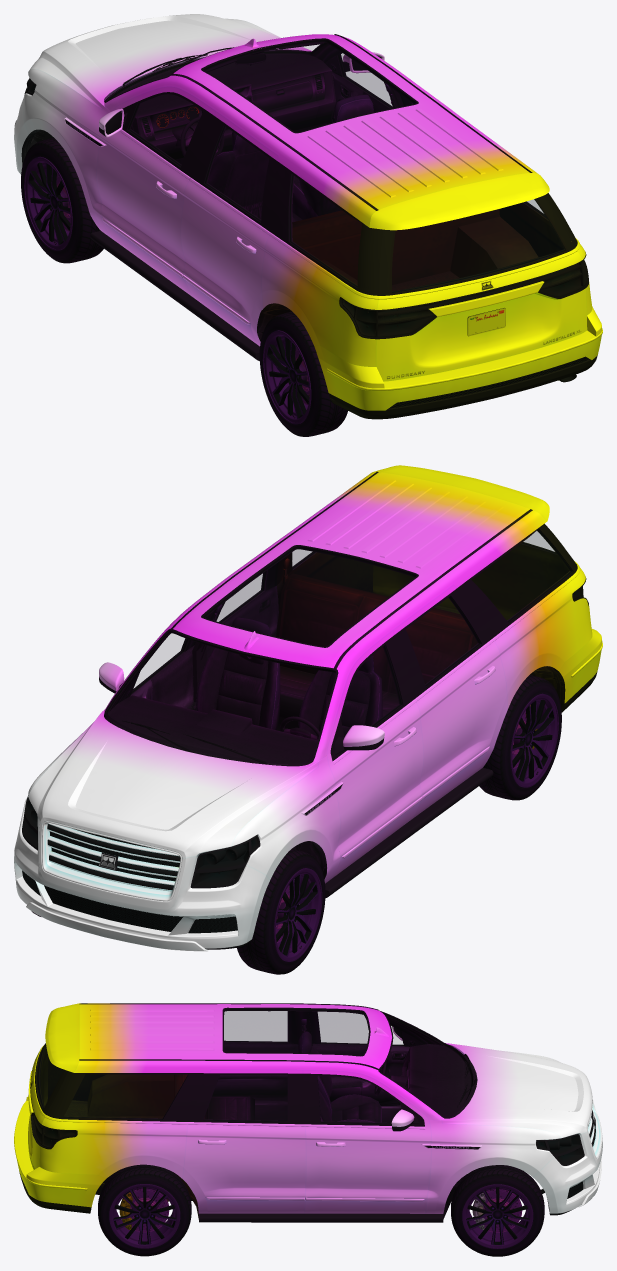
File: landstalker2.glb
3 views of the same model, one above another, from view 1: azimuth 30°, elevation 25°; view 2: azimuth 150°, elevation 25°; view 3: azimuth 270°, elevation 25° (orthographic). The views are drawn at different scales.
Parts seen in each view (by area): view 1: bodyshell, chassis, boot, door_dside_r, door_dside_f, bumper_r, bonnet, misc_a, windscreen_r, wheel_lr, wheel_lf, wing_lf (+7 smaller); view 2: bodyshell, chassis, bonnet, bumper_f, door_dside_r, door_dside_f, misc_a, boot, wheel_lf, wing_lf, wheel_lr, misc_f (+9 smaller); view 3: bodyshell, chassis, door_pside_r, door_pside_f, bonnet, wheel_rr, wheel_rf, wing_rf, misc_a, window_rm, boot, bumper_r (+8 smaller).
Part boxes in pixels (box(x1,y1,x2,y2)): bodyshell: box(24, 34, 592, 366); chassis: box(33, 42, 571, 341); boot: box(369, 173, 587, 381); door_dside_r: box(180, 111, 278, 346); door_dside_f: box(96, 86, 215, 298); bumper_r: box(314, 307, 602, 419); bonnet: box(30, 14, 311, 109); misc_a: box(205, 41, 414, 131); windscreen_r: box(392, 199, 564, 291); wheel_lr: box(259, 311, 347, 436); wheel_lf: box(21, 137, 103, 263); wing_lf: box(22, 69, 112, 238); bodyshell: box(22, 471, 592, 901); chassis: box(104, 552, 558, 865); bonnet: box(28, 710, 318, 858); bumper_f: box(14, 810, 269, 951); door_dside_r: box(393, 584, 507, 818); door_dside_f: box(327, 630, 423, 878); misc_a: box(205, 547, 414, 645); boot: box(373, 465, 575, 620); wheel_lf: box(237, 848, 325, 974); wing_lf: box(232, 755, 340, 883); wheel_lr: box(479, 675, 561, 800); misc_f: box(47, 823, 180, 891); bodyshell: box(39, 1003, 602, 1178); chassis: box(47, 1011, 544, 1219); door_pside_r: box(182, 1069, 305, 1213); door_pside_f: box(303, 1070, 431, 1213); bonnet: box(442, 1043, 592, 1137); wheel_rr: box(98, 1164, 191, 1256); wheel_rf: box(451, 1165, 544, 1256); wing_rf: box(425, 1120, 561, 1213); misc_a: box(224, 1010, 368, 1054); window_rm: box(64, 1074, 187, 1118); boot: box(28, 1003, 79, 1169); bumper_r: box(14, 1097, 106, 1213).
Size of the model in its own units: 2.27 by 1.94 by 5.55.
17 materials, 17 textured.
